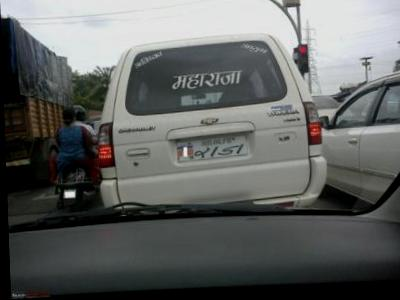License_Plate: (172, 135, 247, 161)
